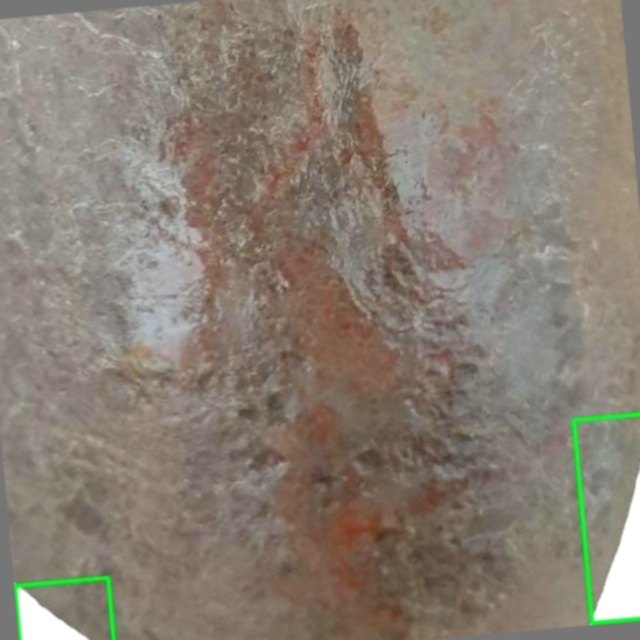Contact Dermatitis: (574, 415, 639, 624), (14, 577, 113, 639)
